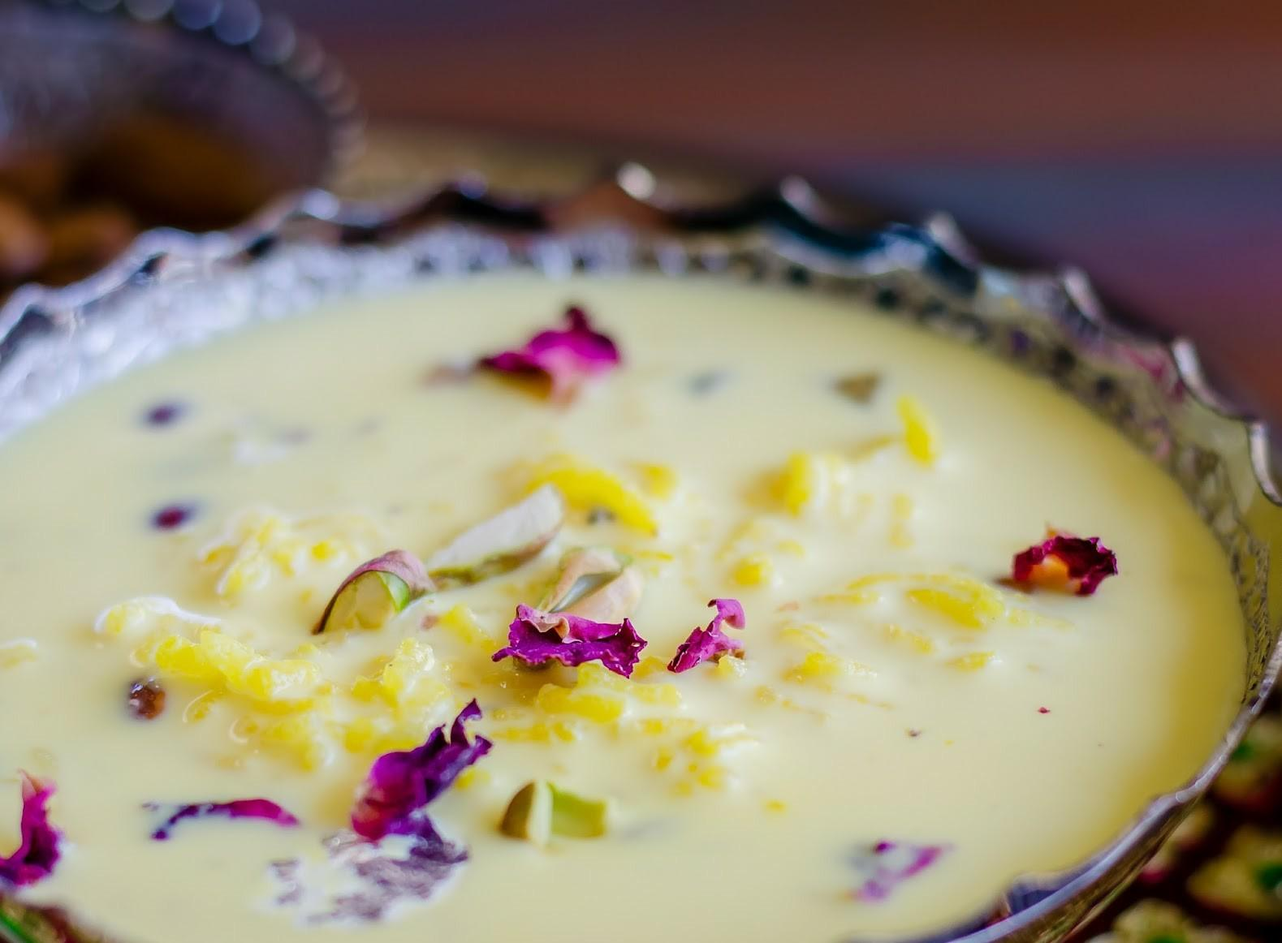Kheer: (4, 266, 1250, 943)
